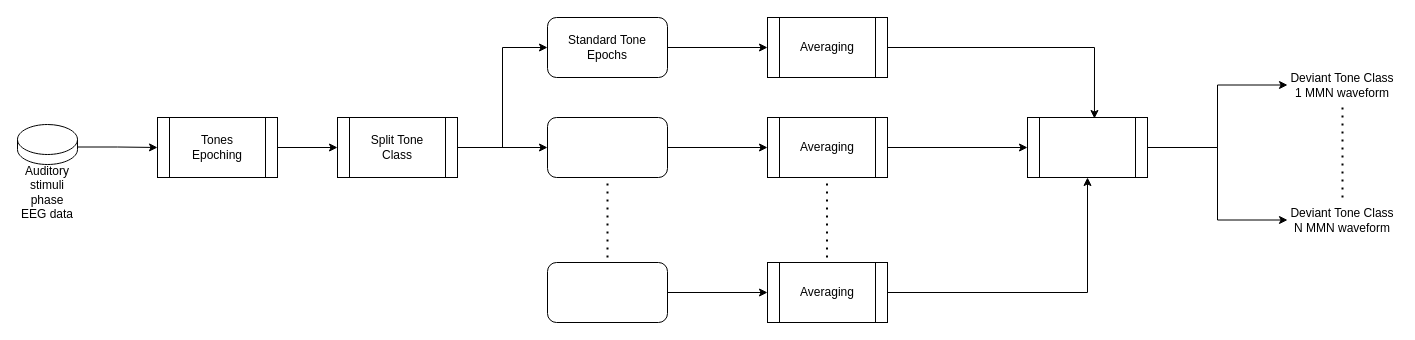
This 1415x340 diagram has some shape labels left out. The shapes that lost their labels are listed below. From the top down, each one's centre as x and y in pixels, then its label:
At (x=607, y=147): "Deviant Tone Class 1 Epochs".
At (x=1087, y=147): "Deviants minus standard".
At (x=607, y=292): "Deviant Tone Class N Epochs".
